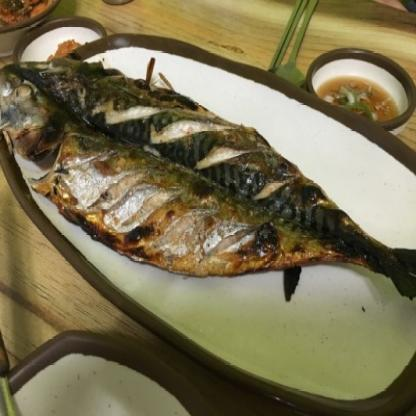Peixe: (0, 45, 416, 309)
